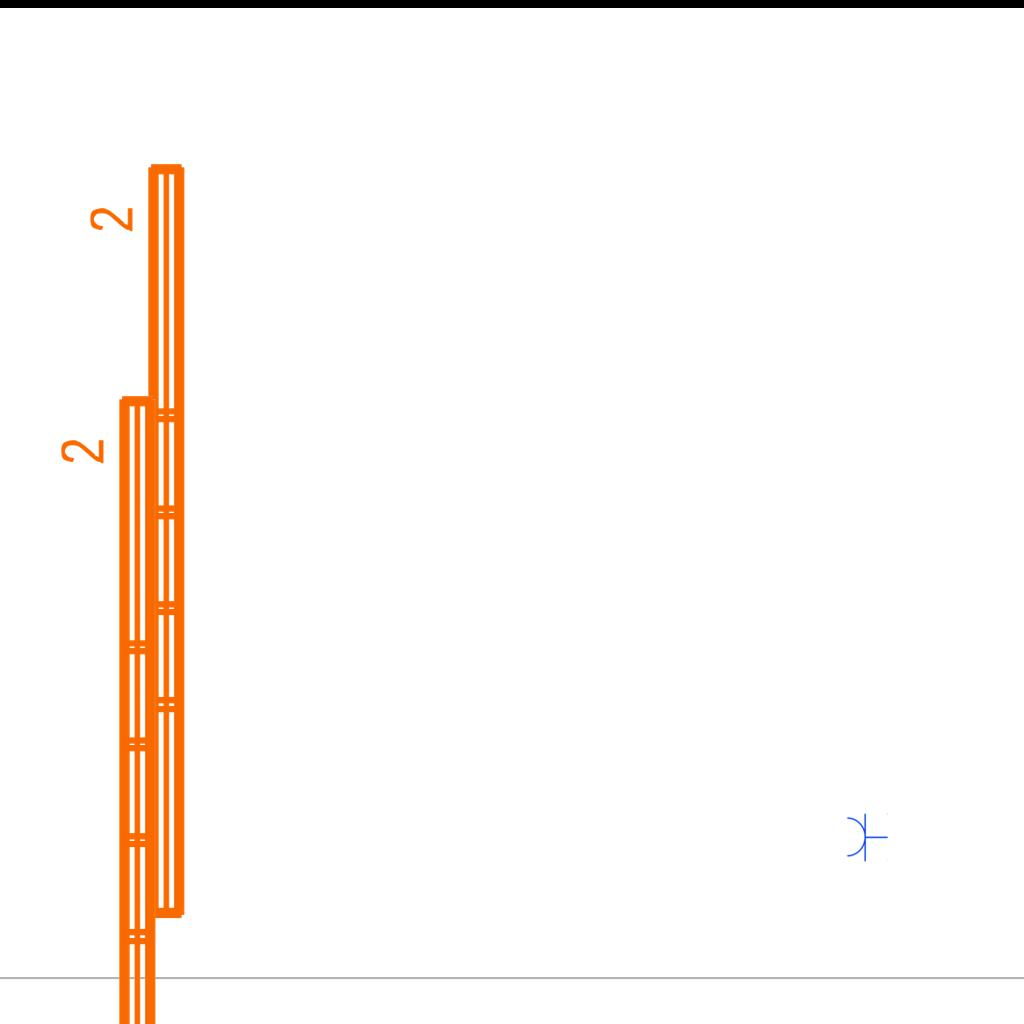Ambulanz_Pendelleuchte_LED: (85, 155, 197, 929), (56, 387, 168, 1024)
Schukosteckdose_einfach: (845, 812, 888, 862)
